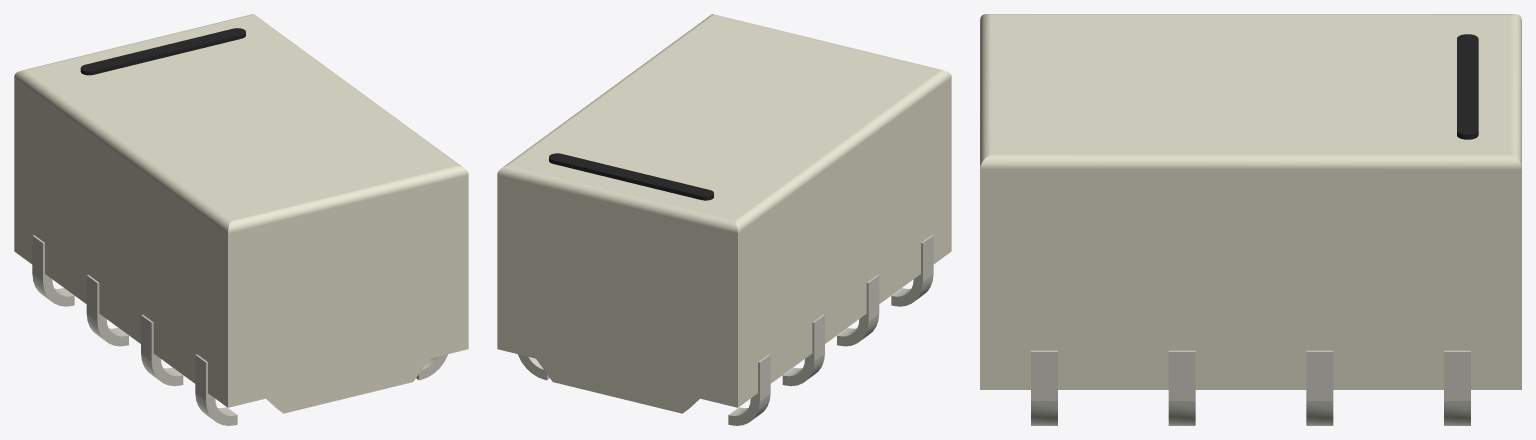
File: kc-relay_dpdt_omron_g6k-2g.glb
3 views of the same model, side by side, from view 1: azimuth 30°, elevation 25°; view 2: azimuth 150°, elevation 25°; view 3: azimuth 270°, elevation 25° (orthographic). The views are drawn at different scales.
Visible parts, largest first — view 1: 0.75_0.75_0.6666666666666666_0, 0.6666666666666666_0.6666666666666666_0.5833333333333334_0.8, 0_0_0_0; view 2: 0.75_0.75_0.6666666666666666_0, 0.6666666666666666_0.6666666666666666_0.5833333333333334_0.8, 0_0_0_0; view 3: 0.75_0.75_0.6666666666666666_0, 0.6666666666666666_0.6666666666666666_0.5833333333333334_0.8, 0_0_0_0.
Boxes of the visible parts, x1,y1,x2,y2 form: 0.75_0.75_0.6666666666666666_0: (14,14,468,413); 0.6666666666666666_0.6666666666666666_0.5833333333333334_0.8: (32,235,447,425); 0_0_0_0: (80,28,245,75); 0.75_0.75_0.6666666666666666_0: (497,14,951,413); 0.6666666666666666_0.6666666666666666_0.5833333333333334_0.8: (518,235,933,425); 0_0_0_0: (549,153,713,200); 0.75_0.75_0.6666666666666666_0: (980,14,1521,389); 0.6666666666666666_0.6666666666666666_0.5833333333333334_0.8: (1031,350,1470,425); 0_0_0_0: (1457,34,1478,139).
Size of the model in its own units: 0.66 by 0.58 by 1.
